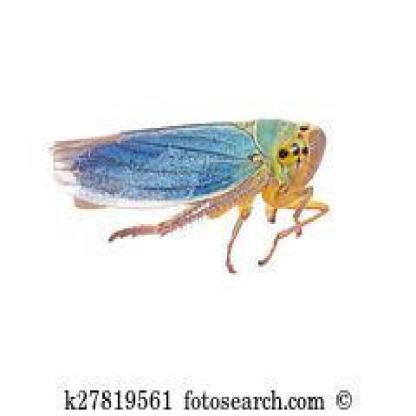Green-Leafhopper: (38, 113, 337, 282)
